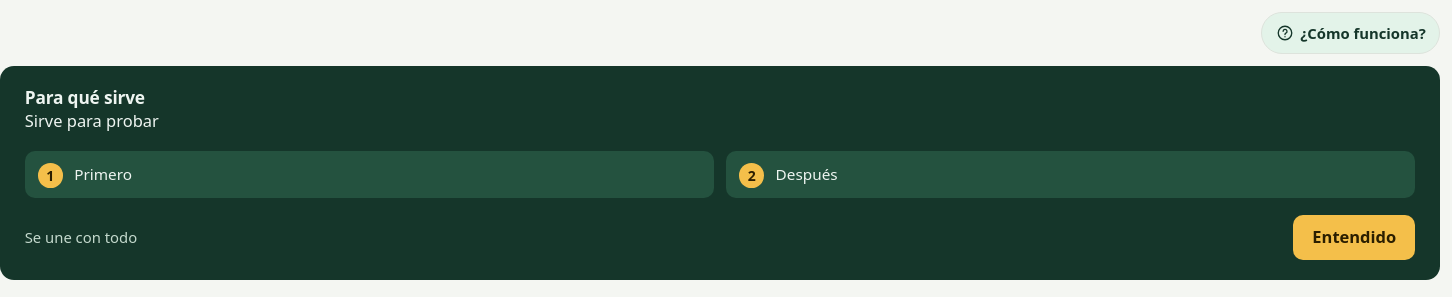
HU-31 Guía por módulo › CA-1: se abre la primera vez y no vuelve a molestar
This screenshot has width=1452, height=297.
Expected: the text "Sirve para probar" is shown, [25, 109, 159, 132]
Click the button "Entendido" at (1354, 237), box [1293, 215, 1415, 260]
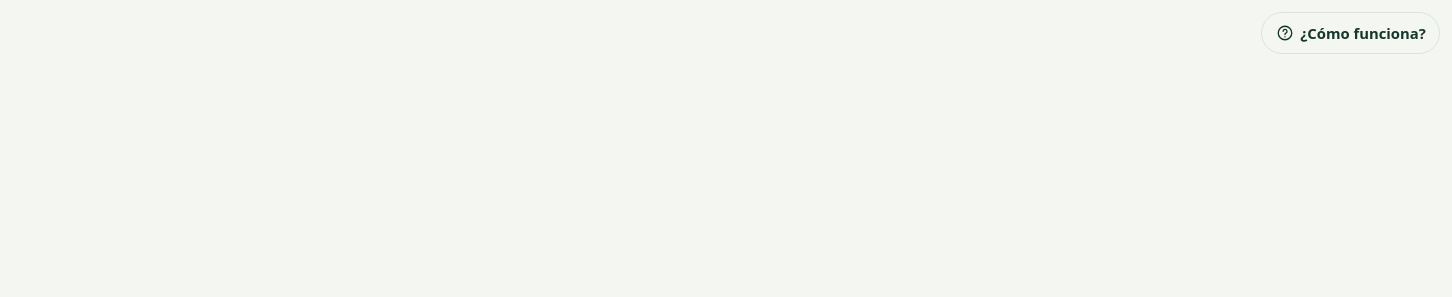
Expected: the text "Sirve para probar" is gone
